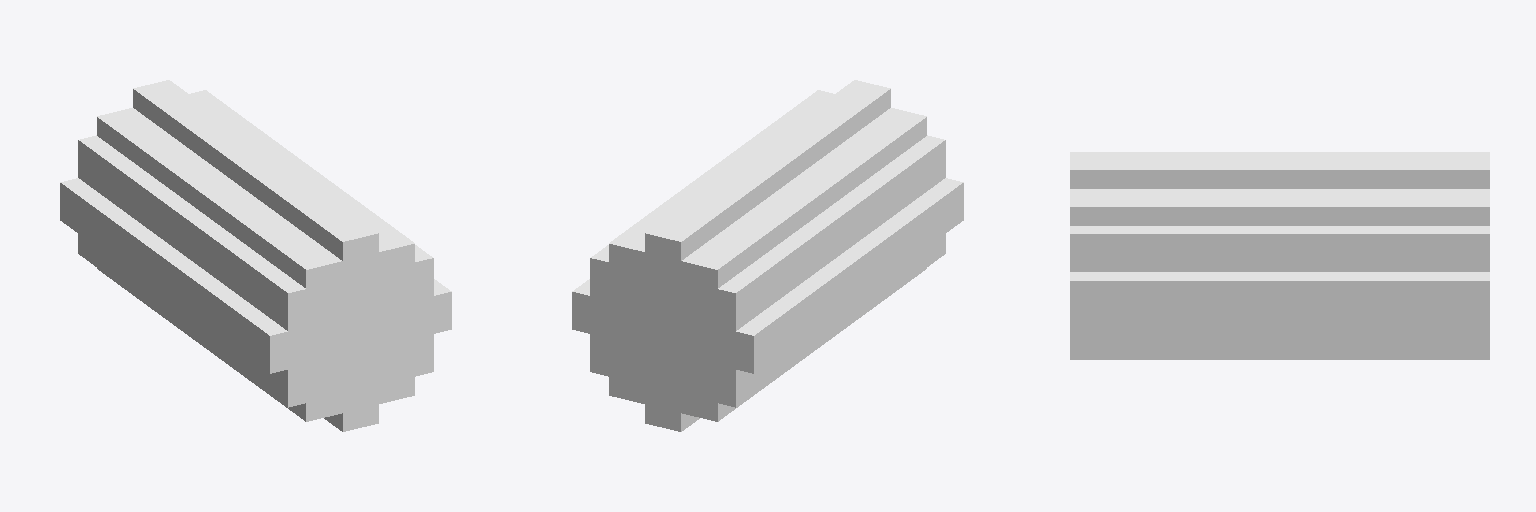
Rendered from Log01.obj.
3 renders of one model, left to right at view 1: azimuth 30°, elevation 25°; view 2: azimuth 150°, elevation 25°; view 3: azimuth 270°, elevation 25°, orthographic.
Visible parts, largest first — view 1: object 1; view 2: object 1; view 3: object 1.
Boxes of the visible parts, x1,y1,x2,y2 form: object 1: [60, 80, 451, 431]; object 1: [572, 80, 963, 431]; object 1: [1070, 152, 1489, 359].
Size of the model in its own units: 1 by 1 by 2.